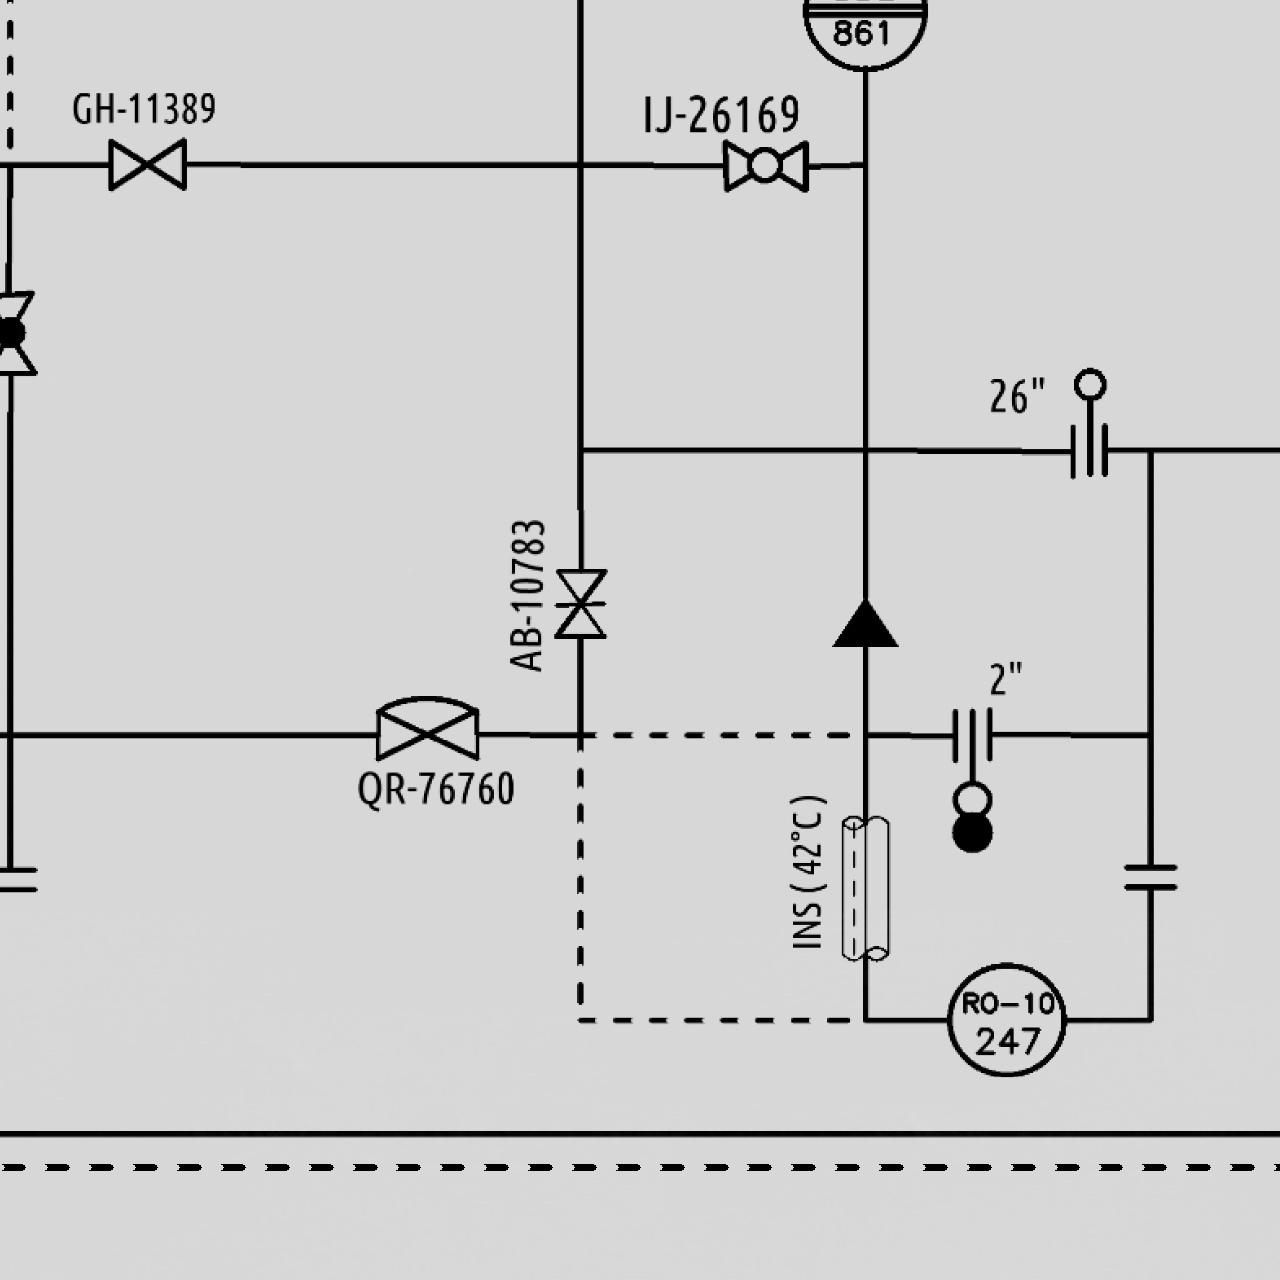Control-Panel: (942, 955, 1069, 1082)
